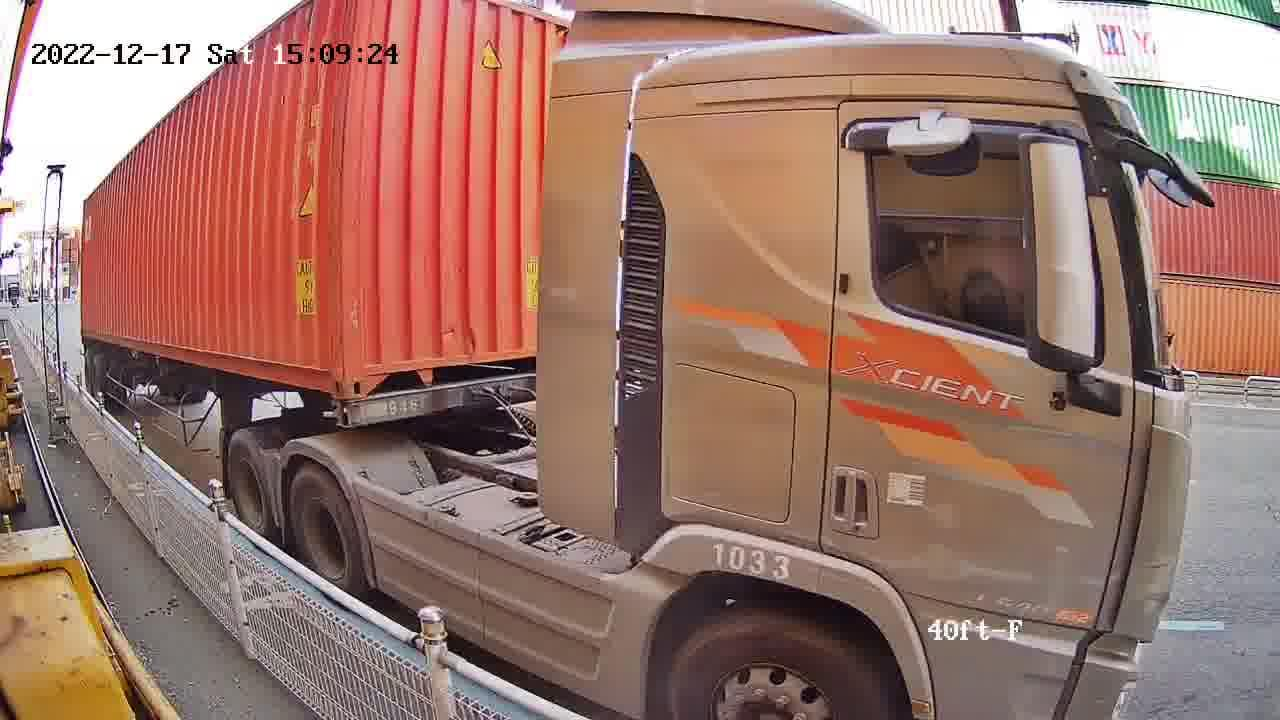Chassis: (348, 376, 535, 427)
Cone: (320, 400, 346, 427)
Hole_L: (346, 346, 392, 398)
Hole_R: (310, 348, 344, 397)
Tire: (290, 471, 358, 589), (226, 436, 270, 525)
